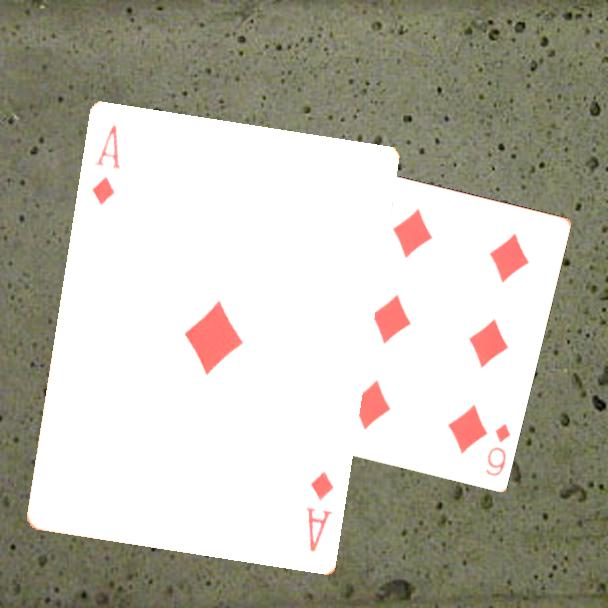d01: (88, 122, 124, 209), (303, 468, 337, 555)
d06: (482, 420, 513, 479)
